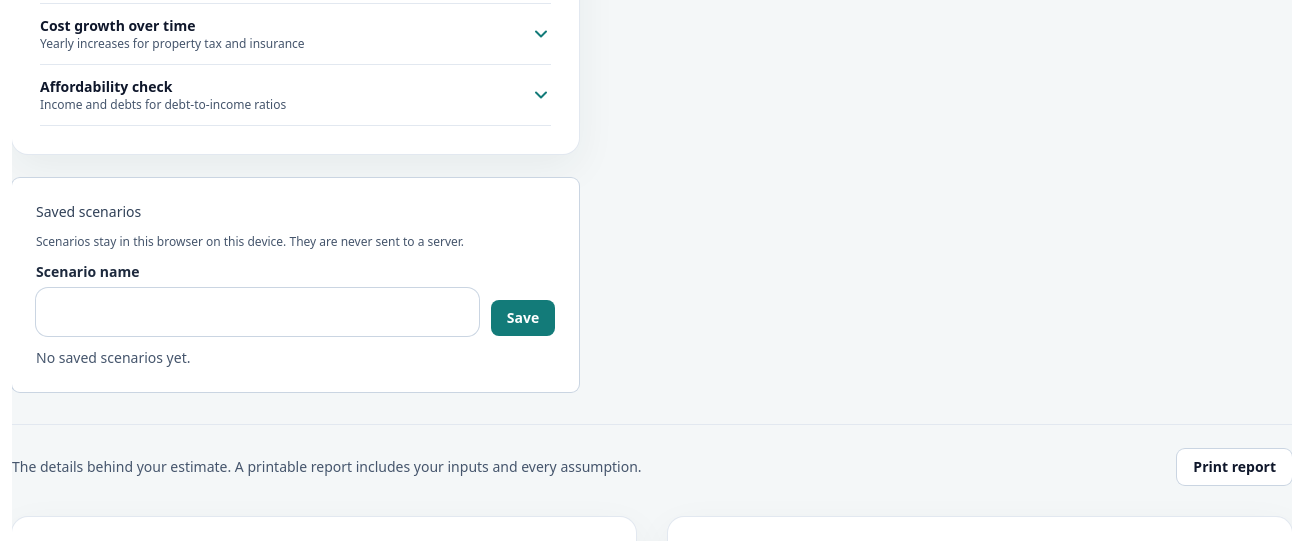
Test: saved scenarios › shows the message when a write is refused
This screenshot has width=1304, height=541.
(page scrolled)
Type "Big" into the field labelled "Scenario name" at (257,312), box x1=36 y1=292 x2=479 y2=332
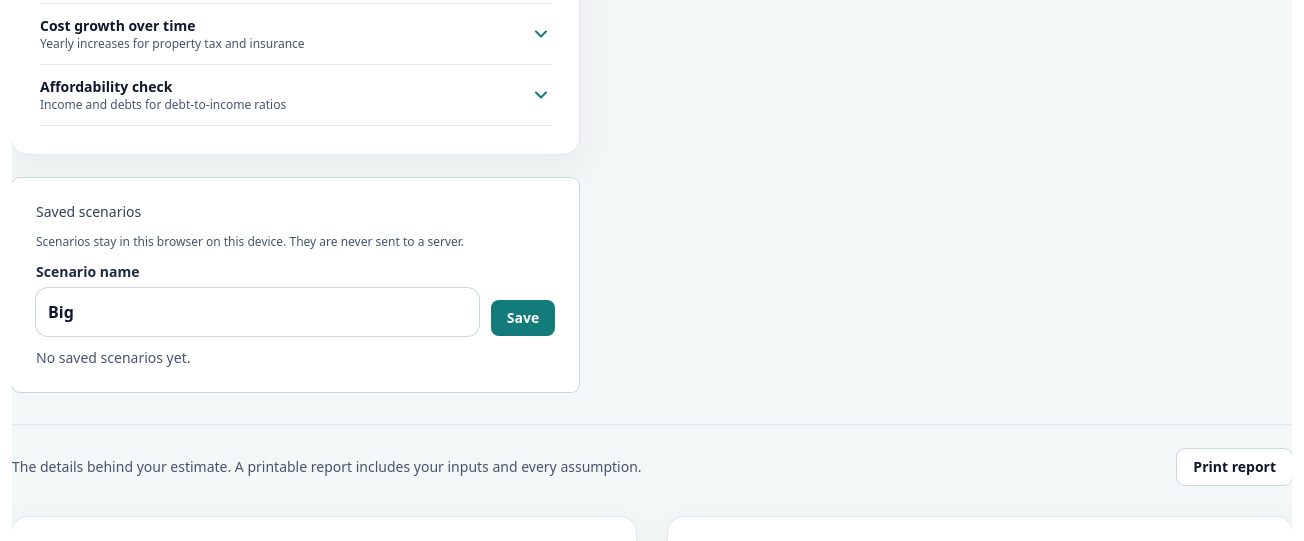
Click the button "Save" at (523,318), box x1=491 y1=300 x2=555 y2=336
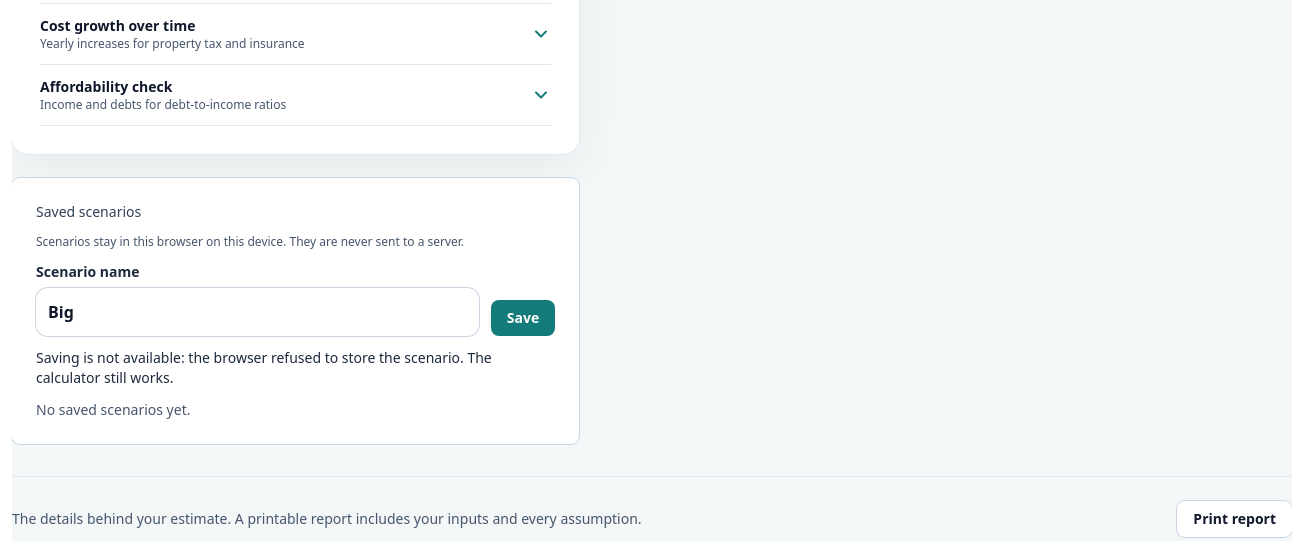
Expected: the text "Saving is not available" is shown, x1=36 y1=348 x2=492 y2=387
